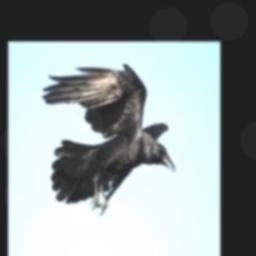Crow: (41, 62, 174, 216)
